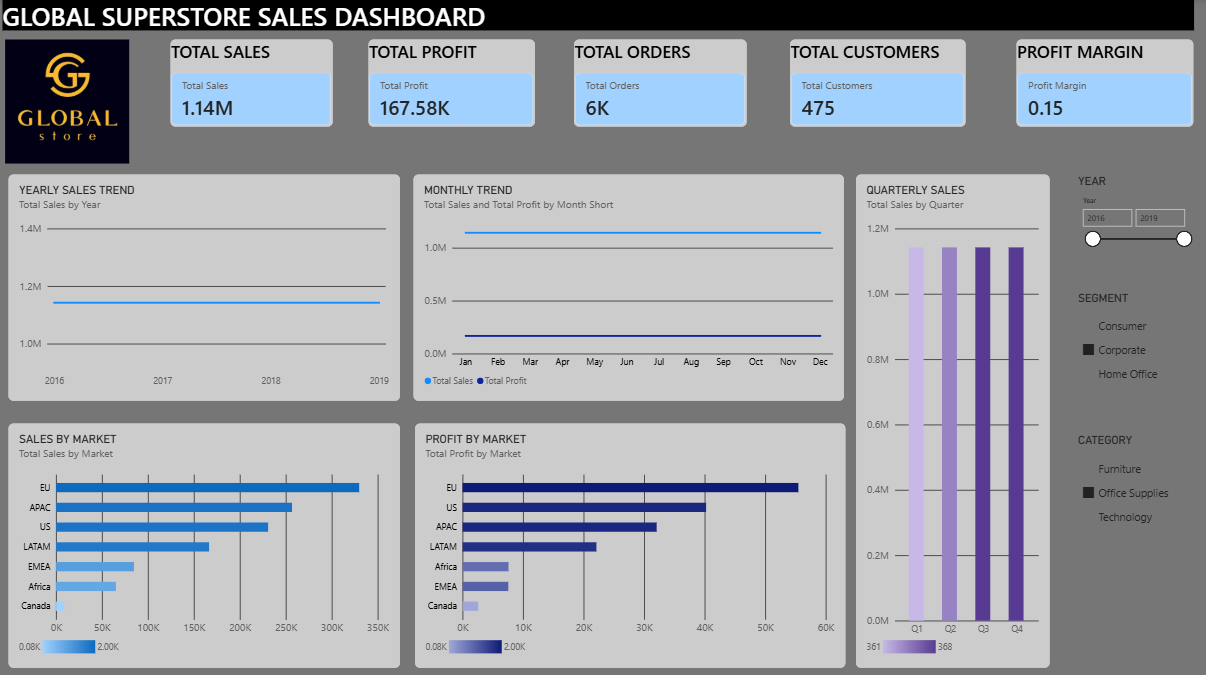

What the dashboard file says about the page in this screenshot:
{"tool":"powerbi","page":{"name":"Page 1","canvas":[1920,1080],"ordinal":0},"visuals":[{"type":"textbox","title":"GLOBAL SUPERSTORE SALES DASHBOARD","box":[7.5,0,1895,50],"z":0},{"type":"cardVisual","title":"TOTAL SALES","fields":{"Data":["Orders.Total Sales"]},"box":[274.4,64.4,257.7,138.4],"z":1},{"type":"cardVisual","title":"TOTAL PROFIT","fields":{"Data":["Orders.Total Profit"]},"box":[589.3,64.4,264.8,138.4],"z":2},{"type":"cardVisual","title":"TOTAL ORDERS","fields":{"Data":["Orders.Total Orders"]},"box":[916.2,64.4,274.4,138.4],"z":3},{"type":"cardVisual","title":"TOTAL CUSTOMERS","fields":{"Data":["Orders.Total Customers"]},"box":[1259.8,64.4,279.2,138.4],"z":4},{"type":"image","box":[0,65,220,197.5],"z":5},{"type":"textbox","box":[350,427.5,313,295],"z":6},{"type":"lineChart","title":"YEARLY SALES TREND","fields":{"Category":["DateTable.Year"],"Y":["Orders.Total Sales"]},"box":[16.7,279.2,622.7,360.3],"z":7},{"type":"lineChart","title":"MONTHLY TREND","fields":{"Category":["DateTable.Month Short"],"Y":["Orders.Total Sales","Orders.Total Profit"]},"box":[660.9,279.2,684.8,360.3],"z":8},{"type":"clusteredBarChart","title":"SALES BY MARKET","fields":{"Category":["Orders.Market"],"Y":["Orders.Total Sales"]},"box":[16.7,675.2,622.7,388.9],"z":9},{"type":"clusteredBarChart","title":"PROFIT BY MARKET","fields":{"Category":["Orders.Market"],"Y":["Orders.Total Profit"]},"box":[663.3,675.2,684.8,388.9],"z":10},{"type":"clusteredColumnChart","title":"QUARTERLY SALES","fields":{"Category":["DateTable.Quarter"],"Y":["Orders.Total Sales"]},"box":[1364.7,279.2,307.8,785],"z":11},{"type":"slicer","title":"YEAR","fields":{"Values":["DateTable.Year"]},"box":[1717.5,280,185,150],"z":12},{"type":"slicer","title":"SEGMENT","fields":{"Values":["Orders.Segment"]},"box":[1717.5,465,185,150],"z":13},{"type":"slicer","title":"CATEGORY","fields":{"Values":["Orders.Category"]},"box":[1717.5,692.5,185,150],"z":14},{"type":"cardVisual","title":"PROFIT MARGIN","fields":{"Data":["Orders.Profit Margin"]},"box":[1620,64.4,281.5,138.4],"z":15}]}

Visuals, with their boxes in screenshot pixels (x1, y1, x2, y2), scaled from the page's 1920x1080 canvas onto the 1206x675 screenshot:
"GLOBAL SUPERSTORE SALES DASHBOARD" textbox: 5, 0, 1195, 31
"TOTAL SALES" cardVisual: 172, 40, 334, 127
"TOTAL PROFIT" cardVisual: 370, 40, 536, 127
"TOTAL ORDERS" cardVisual: 575, 40, 748, 127
"TOTAL CUSTOMERS" cardVisual: 791, 40, 967, 127
image: 0, 41, 138, 164
textbox: 220, 267, 416, 452
"YEARLY SALES TREND" lineChart: 10, 174, 402, 400
"MONTHLY TREND" lineChart: 415, 174, 845, 400
"SALES BY MARKET" clusteredBarChart: 10, 422, 402, 665
"PROFIT BY MARKET" clusteredBarChart: 417, 422, 847, 665
"QUARTERLY SALES" clusteredColumnChart: 857, 174, 1051, 665
"YEAR" slicer: 1079, 175, 1195, 269
"SEGMENT" slicer: 1079, 291, 1195, 384
"CATEGORY" slicer: 1079, 433, 1195, 527
"PROFIT MARGIN" cardVisual: 1018, 40, 1194, 127
